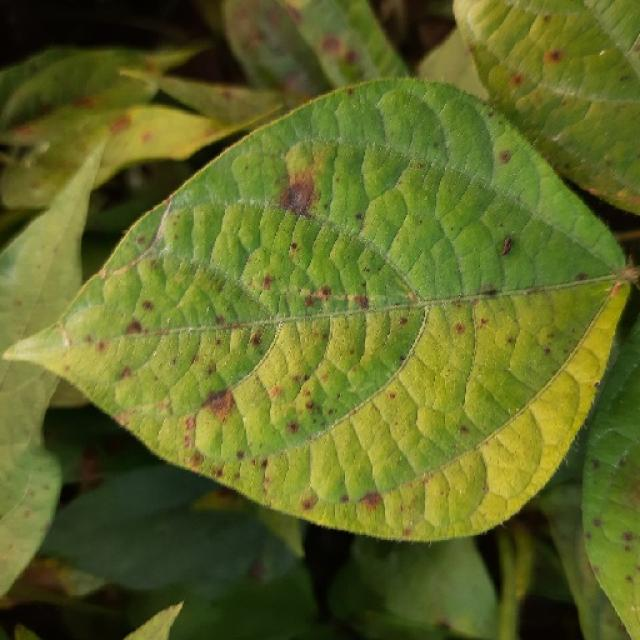Anthracnose: (274, 178, 327, 217), (196, 389, 244, 430), (493, 139, 518, 178), (356, 489, 386, 517), (307, 288, 342, 312), (116, 321, 150, 344), (241, 325, 267, 351), (449, 414, 475, 440), (499, 228, 519, 260), (573, 260, 595, 289), (300, 486, 320, 517), (209, 304, 232, 330), (188, 449, 214, 470), (256, 270, 279, 293), (452, 316, 469, 342), (354, 289, 369, 311)
Blackgram: (9, 80, 630, 540)
